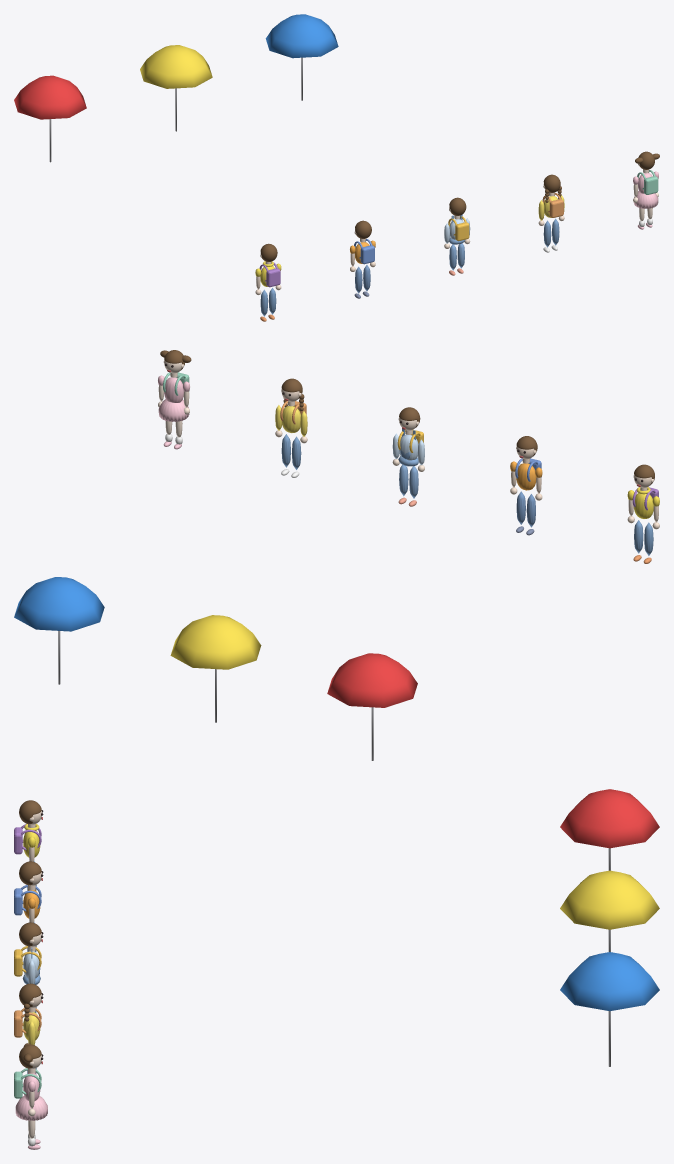
Rendered from kids.glb.
The picture shows the model from 3 angles, top to bottom: view 1: azimuth 30°, elevation 25°; view 2: azimuth 150°, elevation 25°; view 3: azimuth 270°, elevation 25°; orthographic projection. The views are drawn at different scales.
Parts seen in each view (by area): view 1: umbrella0, umbrella2, umbrella1; view 2: umbrella0, umbrella2, umbrella1; view 3: umbrella2, umbrella0, umbrella1, Cone.
Boxes of the visible parts, x1=… form: umbrella0: x1=14, y1=75, x2=86, y2=162; umbrella2: x1=265, y1=14, x2=338, y2=100; umbrella1: x1=140, y1=45, x2=212, y2=131; umbrella0: x1=327, y1=653, x2=417, y2=760; umbrella2: x1=14, y1=577, x2=104, y2=684; umbrella1: x1=170, y1=615, x2=261, y2=722; umbrella2: x1=560, y1=952, x2=659, y2=1066; umbrella0: x1=560, y1=789, x2=659, y2=870; umbrella1: x1=560, y1=870, x2=659, y2=951; Cone: x1=15, y1=1096, x2=47, y2=1120.
Bounding box in the file's own units: 6.72 × 1.27 × 6.7.
